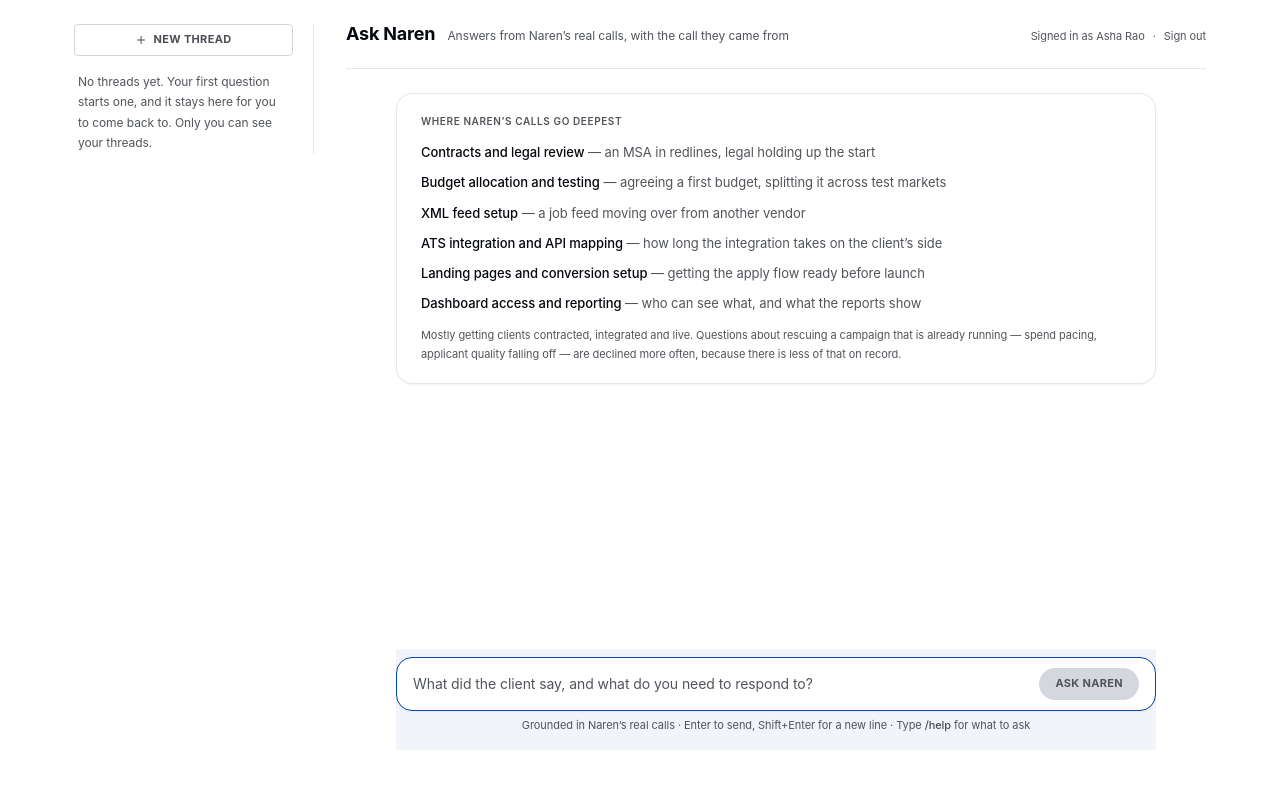
Test: AskNaren outcomes › renders a declined response as the decline notice
Type "applies are flat" into the text box named "The situation" at (722, 684), box x1=413 y1=668 x2=1031 y2=700
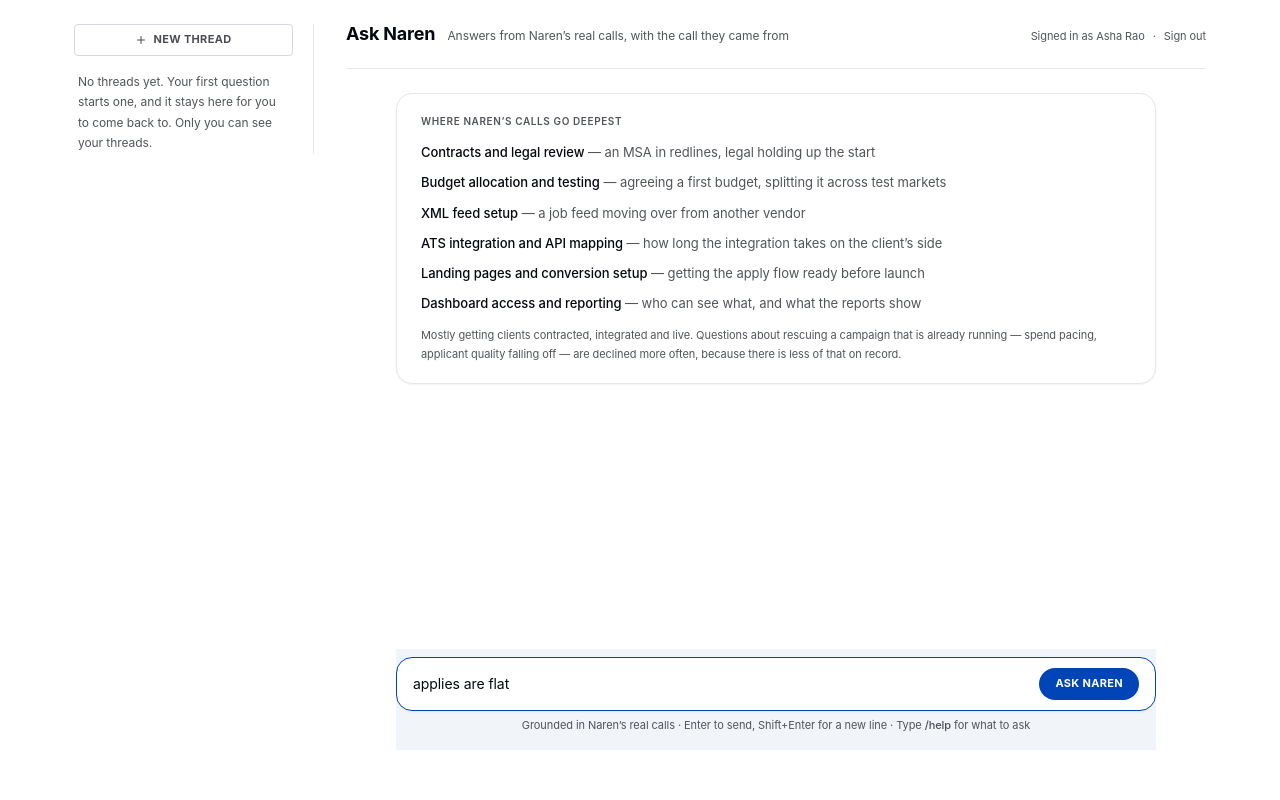
Click the button "Ask Naren" at (1089, 684), box x1=1039 y1=668 x2=1139 y2=700
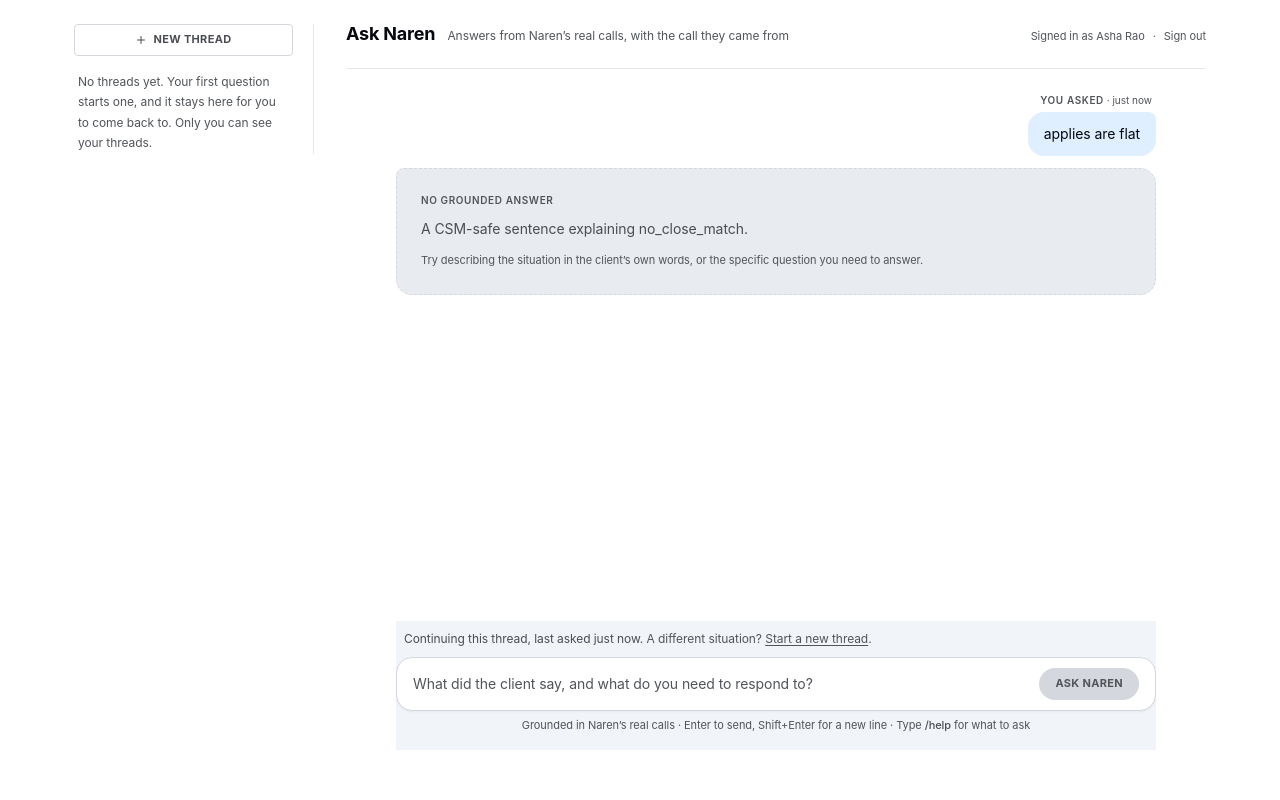
Expected: the text "No grounded answer" is shown, x1=421 y1=194 x2=553 y2=206
